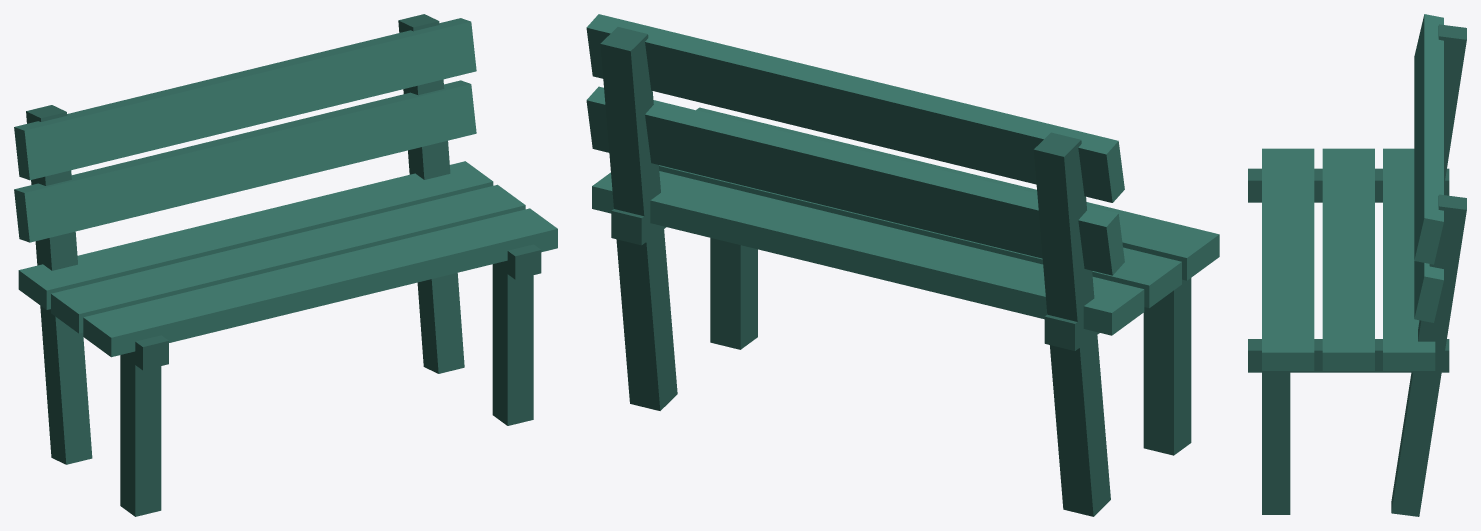
The model's file is bench.glb.
The picture shows the model from 3 angles, left to right: view 1: azimuth 30°, elevation 25°; view 2: azimuth 150°, elevation 25°; view 3: azimuth 270°, elevation 25°; orthographic projection. The views are drawn at different scales.
Visible parts, largest first — view 1: bench; view 2: bench; view 3: bench.
Boxes of the visible parts, bbox=[...] form: bench: bbox=[14, 14, 557, 516]; bench: bbox=[586, 14, 1219, 516]; bench: bbox=[1248, 14, 1466, 516].
Size of the model in its own units: 1.2 by 0.8515 by 0.5438.
